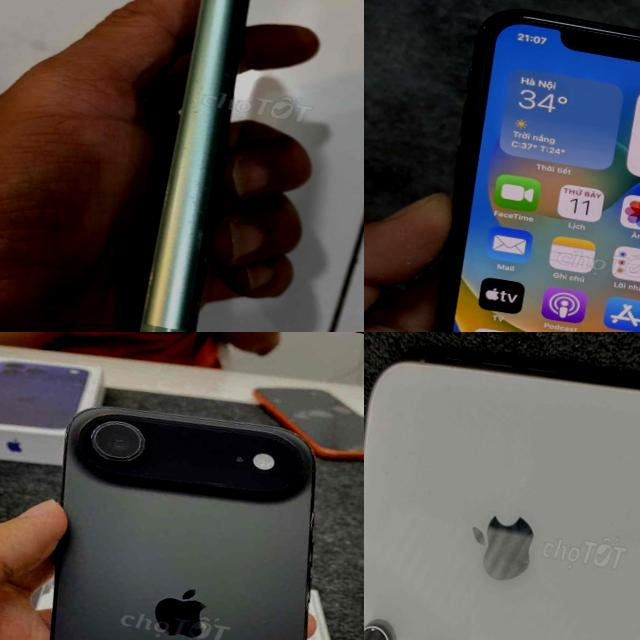gen_11: (138, 0, 249, 332)
gen_17: (0, 386, 364, 640)
gen_x_xs: (364, 332, 640, 640), (392, 0, 640, 332)
scratch: (152, 172, 215, 286), (83, 410, 152, 468), (178, 74, 216, 142), (218, 70, 238, 92)
